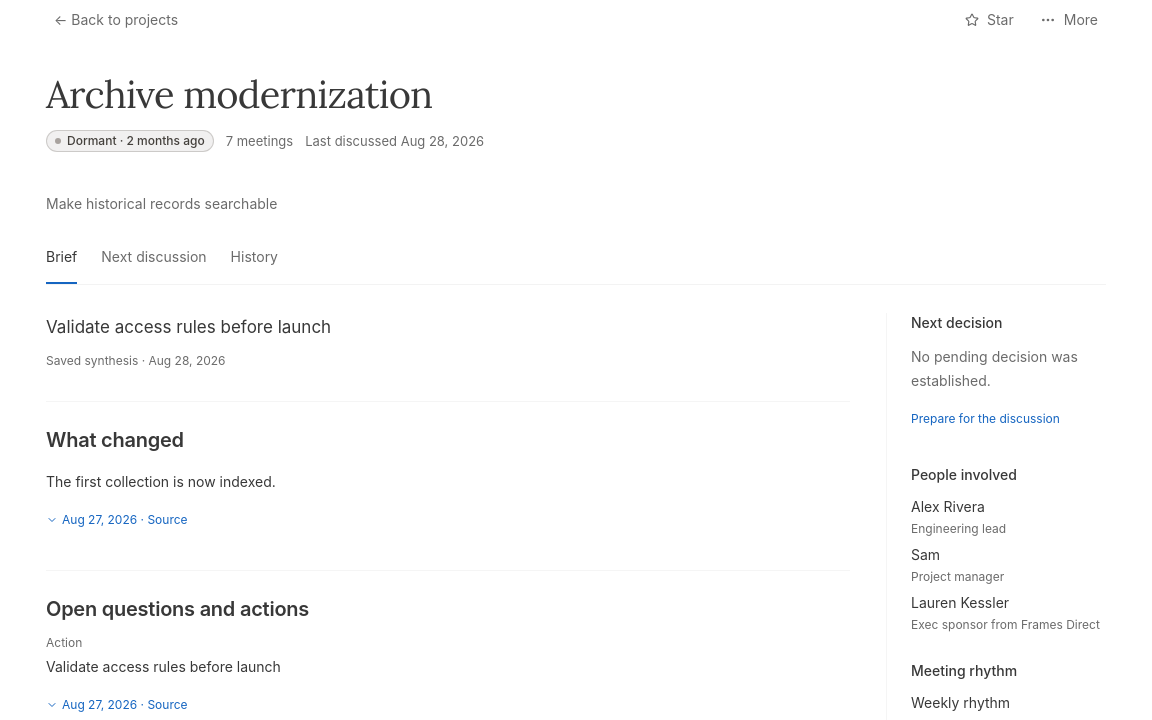
Test: leads with supported synthesis and keeps prep and history in separate tabs
The width and height of the screenshot is (1152, 720).
Check: the panel shows "Validate access rules before launch", box [46,317,331,337]
Check: the panel shows "The first collection is now indexed.", box [46,473,276,490]
Click the tab "History": (254, 262) [231,240,278,284]
(page scrolled)
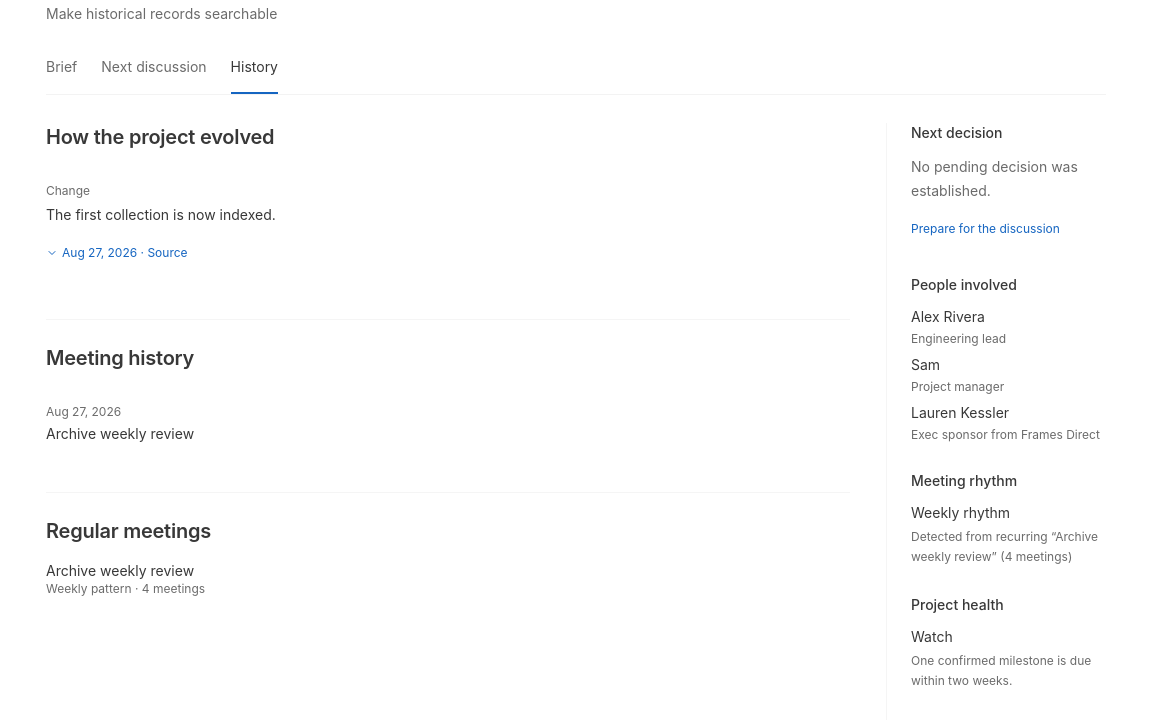
Check: the panel shows "Meeting history", box [46,346,194,370]
Check: the panel shows "Weekly pattern", box [46,581,132,596]
